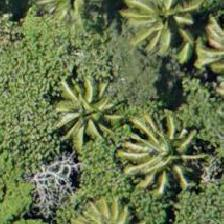Kelapa_Sawit: (32, 67, 122, 157), (114, 109, 204, 199), (129, 0, 219, 60)
